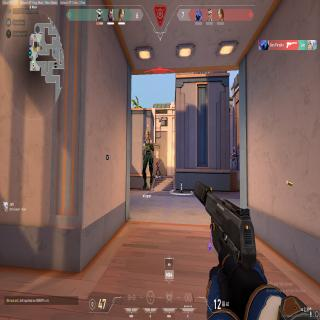ENEMY-BODY: (155, 159, 162, 179)
ENEMY-HEAD: (158, 161, 159, 164)
